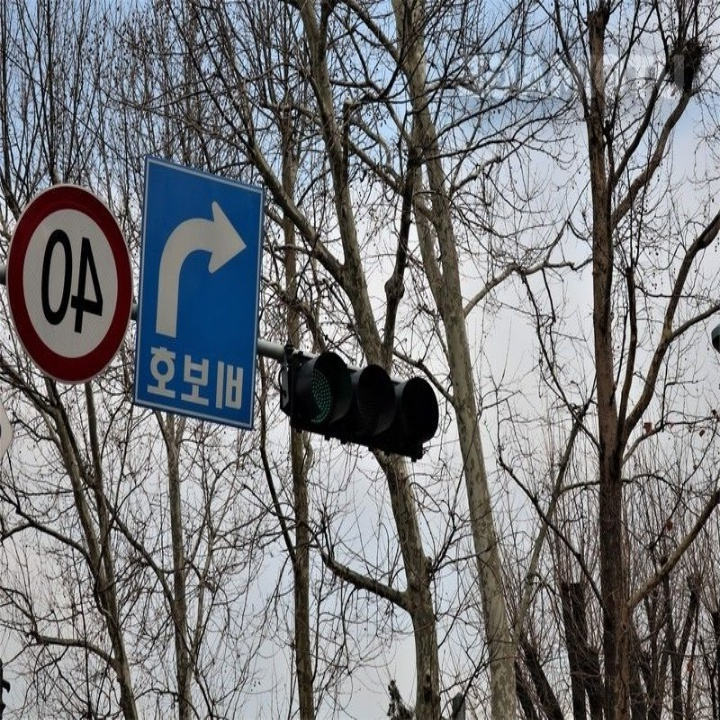right: (149, 187, 253, 347)
